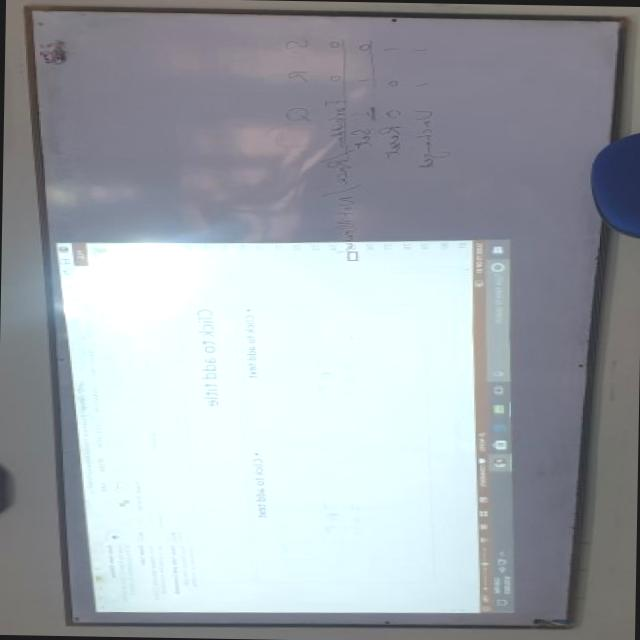Slide: (50, 238, 523, 611)
White-board: (30, 8, 621, 627)
